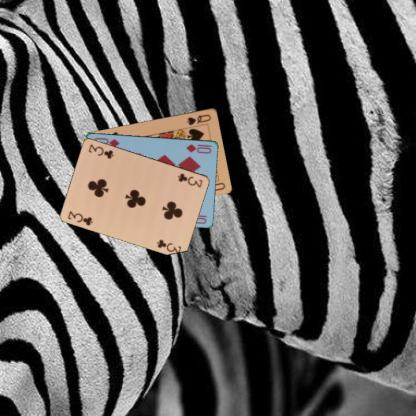10d: (184, 141, 213, 154)
3c: (65, 208, 94, 226), (175, 171, 204, 188)
Qs: (184, 111, 212, 126)
